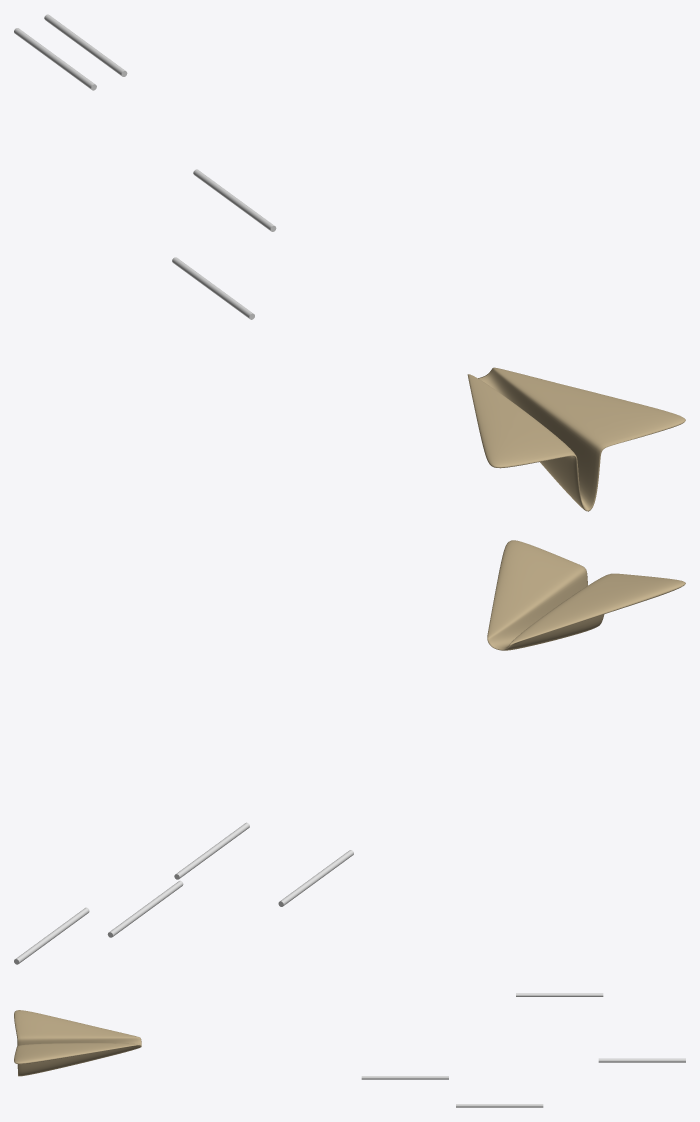
The model's file is plane-fun-loading-animated-3d-icon-963715165482.glb.
3 renders of one model, top to bottom at view 1: azimuth 30°, elevation 25°; view 2: azimuth 150°, elevation 25°; view 3: azimuth 270°, elevation 25°, orthographic. The views are drawn at different scales.
Parts seen in each view (by area): view 1: Plane.004; view 2: Plane.004; view 3: Plane.004, Cylinder.001, Cylinder, Cylinder.002, Cylinder.003.
Boxes of the visible parts, x1,y1,x2,y2 form: Plane.004: [467, 367, 685, 511]; Plane.004: [487, 540, 685, 650]; Plane.004: [14, 1010, 141, 1076]; Cylinder.001: [598, 1058, 685, 1062]; Cylinder: [516, 993, 603, 996]; Cylinder.002: [456, 1104, 543, 1107]; Cylinder.003: [361, 1076, 448, 1079].
Bounding box in the file's own units: 1.87 × 1.3 × 9.95.
